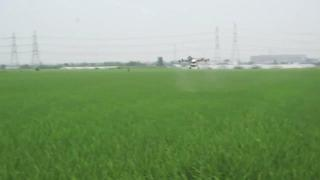UAV: (179, 58, 210, 70)
